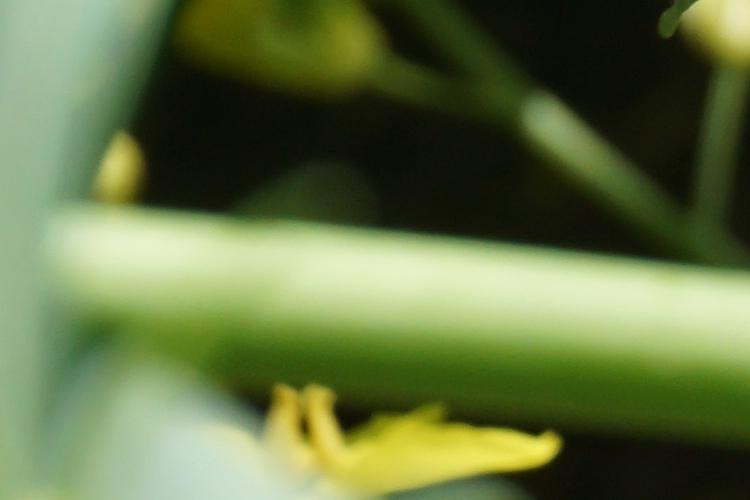yellow: (257, 384, 573, 489)
